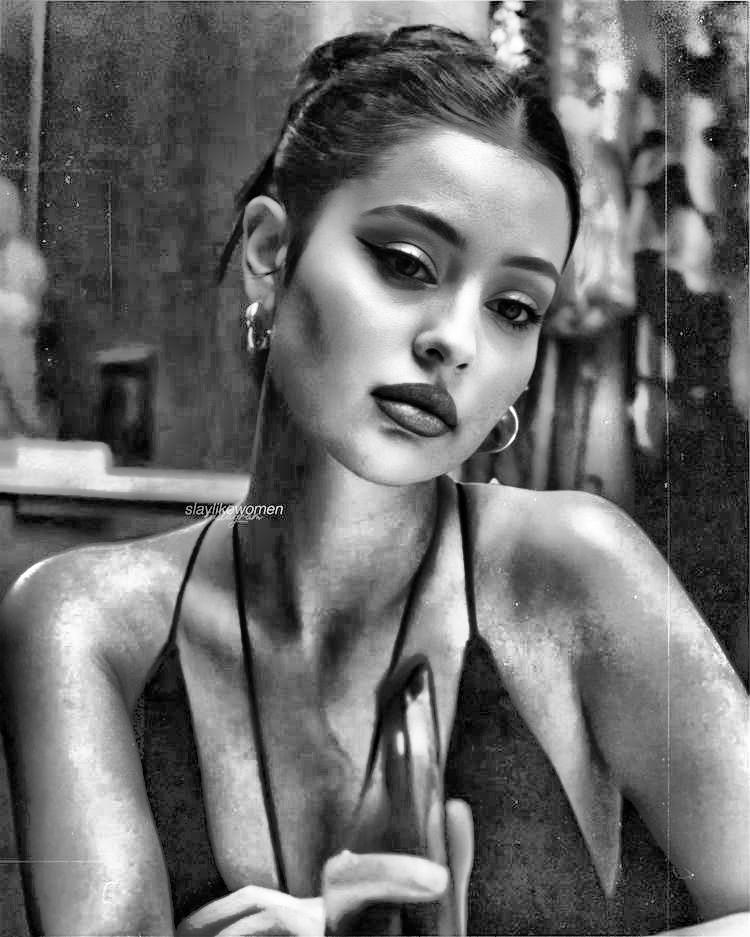sad: (315, 170, 544, 466)
